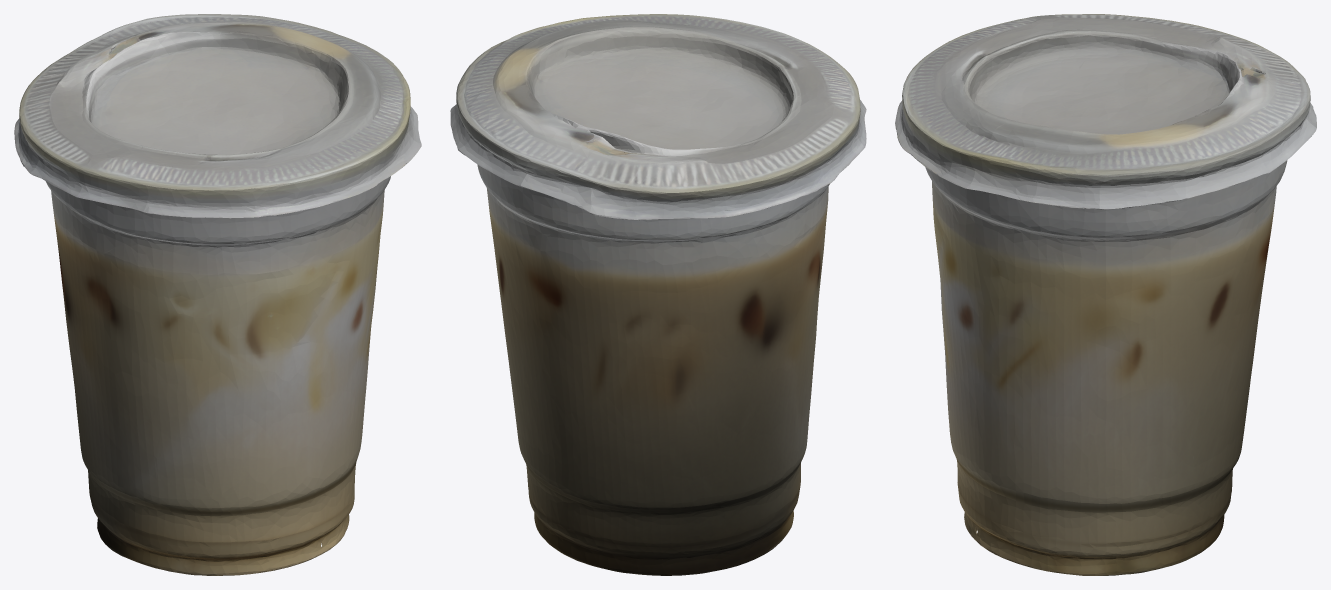
The model's file is caramel.glb.
3 views of the same model, side by side, from view 1: azimuth 30°, elevation 25°; view 2: azimuth 150°, elevation 25°; view 3: azimuth 270°, elevation 25° (orthographic). The views are drawn at different scales.
Parts seen in each view (by area): view 1: world; view 2: world; view 3: world.
Boxes of the visible parts, x1,y1,x2,y2 form: world: (14, 14, 421, 575); world: (450, 14, 866, 575); world: (895, 14, 1316, 575).
Size of the model in its own units: 0.8201 by 0.9641 by 0.8168.
Materials: 1 (1 with a texture image).
